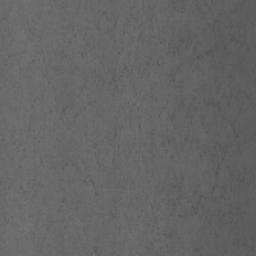Silk spot: (81, 14, 256, 180), (110, 171, 216, 256), (59, 85, 102, 129), (62, 160, 99, 196), (91, 242, 120, 256), (219, 62, 243, 78)
